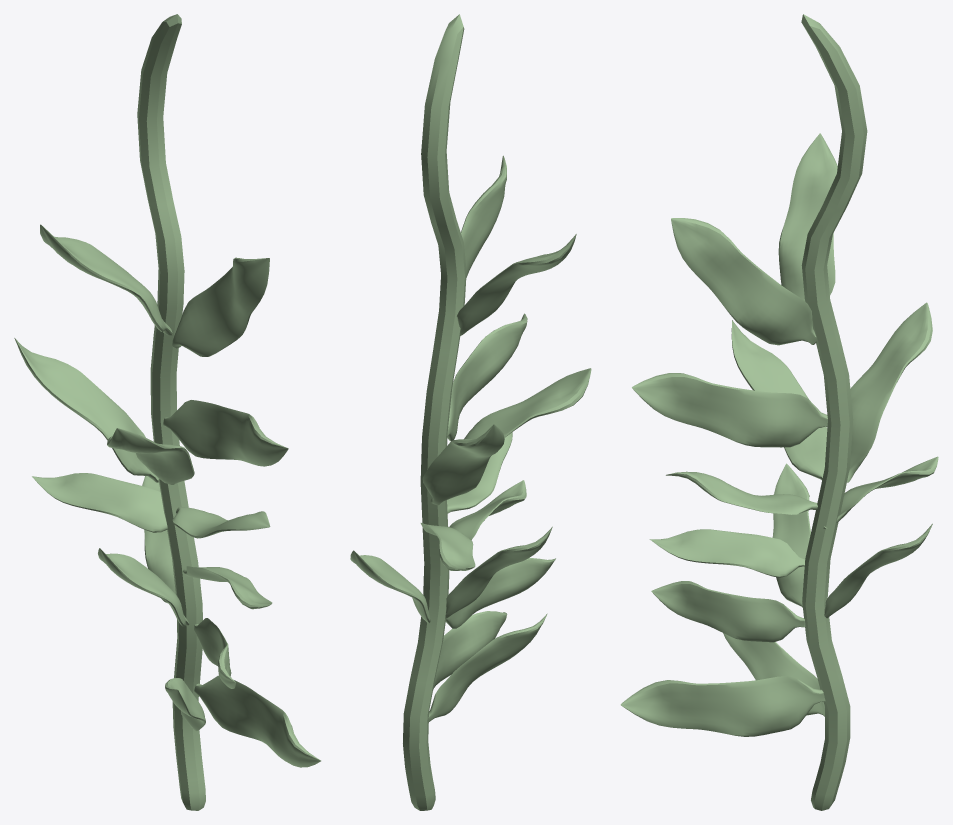
The model's file is tiny kelp new.fbx.
The picture shows the model from 3 angles, left to right: view 1: azimuth 30°, elevation 25°; view 2: azimuth 150°, elevation 25°; view 3: azimuth 270°, elevation 25°; orthographic projection. The views are drawn at different scales.
Visible parts, largest first — view 1: kelp; view 2: kelp; view 3: kelp.
Boxes of the visible parts, box(x1,y1,x2,y2) form: kelp: box(14, 14, 321, 810); kelp: box(350, 14, 591, 810); kelp: box(620, 14, 938, 810).
Size of the model in its own units: 1502 by 6258 by 2302.
